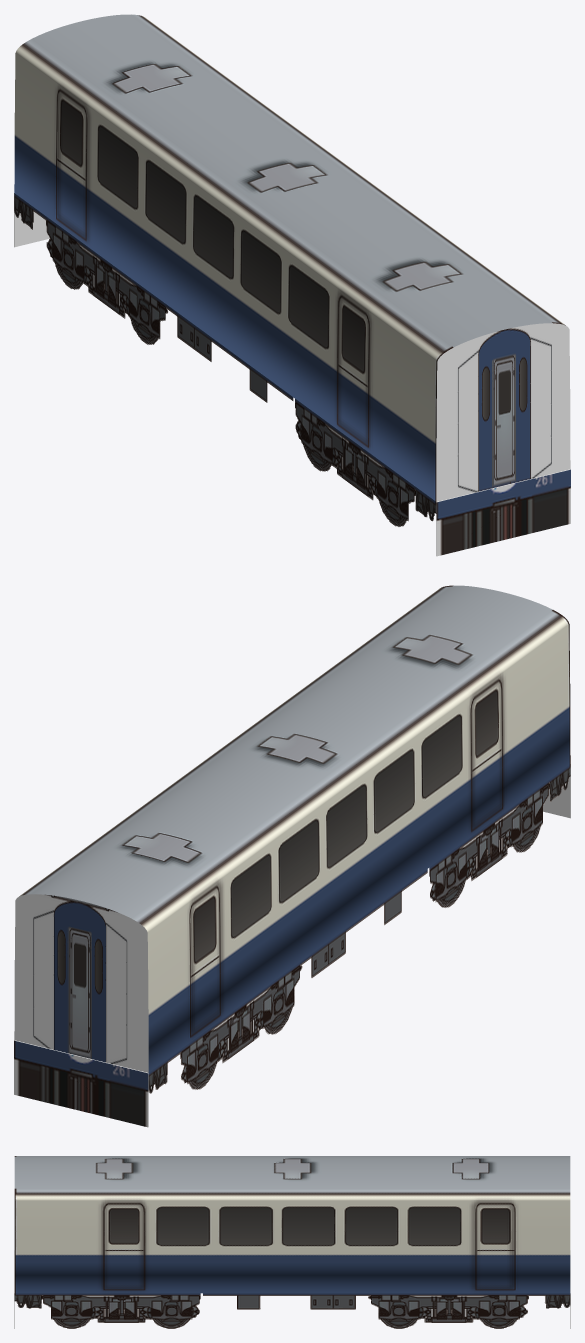
Rendered from car2.glb.
The picture shows the model from 3 angles, top to bottom: view 1: azimuth 30°, elevation 25°; view 2: azimuth 150°, elevation 25°; view 3: azimuth 270°, elevation 25°; orthographic projection. The views are drawn at different scales.
Visible parts, largest first — view 1: yokkaitiasunaro-260-car2; view 2: yokkaitiasunaro-260-car2; view 3: yokkaitiasunaro-260-car2.
Boxes of the visible parts, x1=… form: yokkaitiasunaro-260-car2: x1=14, y1=14, x2=570, y2=556; yokkaitiasunaro-260-car2: x1=14, y1=585, x2=570, y2=1127; yokkaitiasunaro-260-car2: x1=14, y1=1156, x2=570, y2=1328.
Bounding box in the file's own units: 2.11 × 3.14 × 11.49.
Materials: 8 (7 with a texture image).
